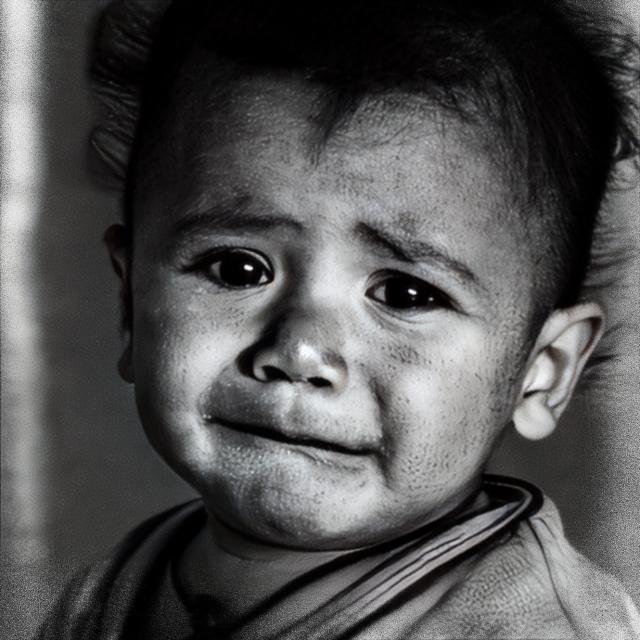sad: (121, 73, 524, 550)
